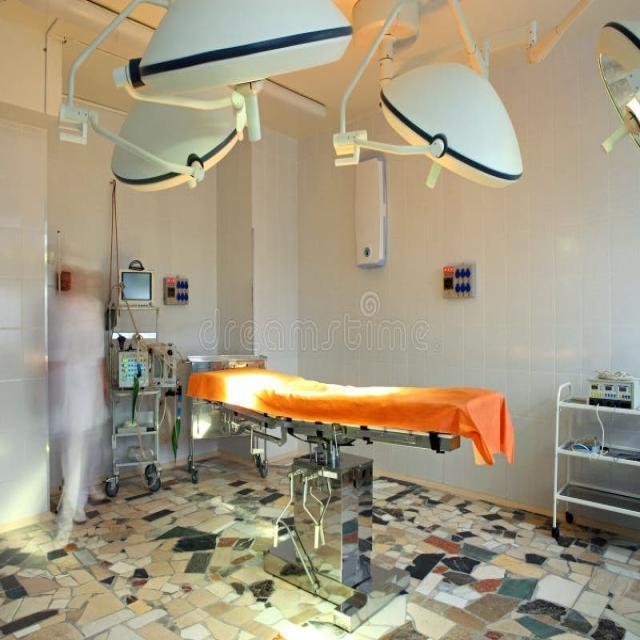Monitor: (114, 250, 160, 326)
bed: (184, 362, 514, 632)
